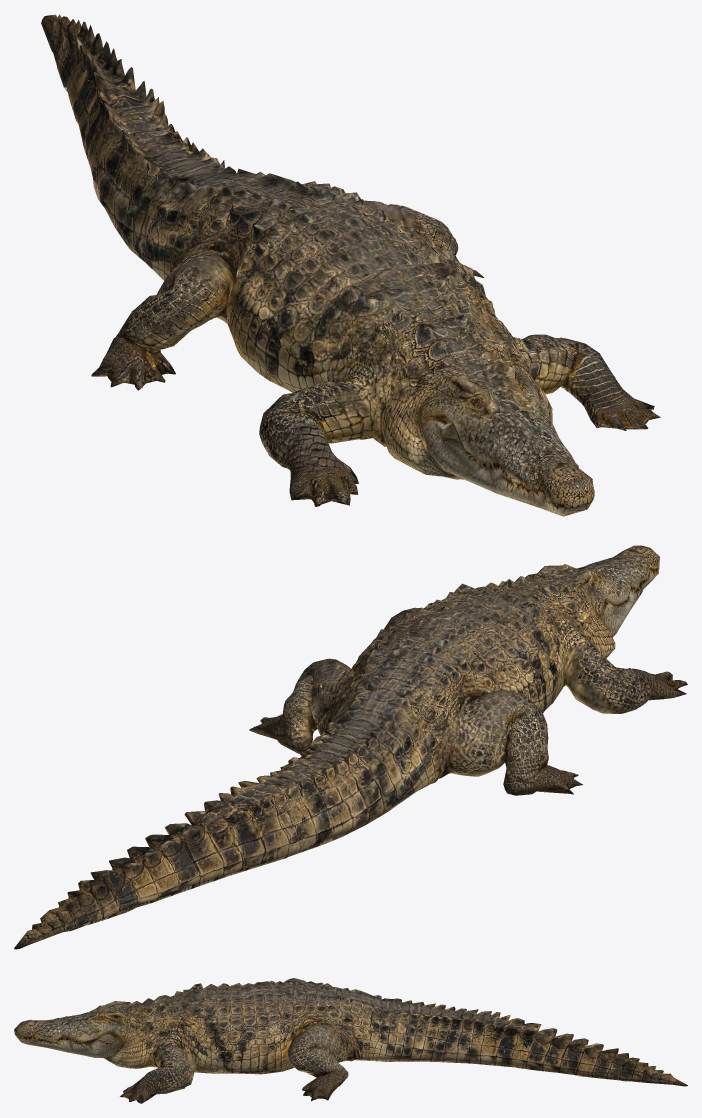
Rendered from crocodile.glb.
The picture shows the model from 3 angles, top to bottom: view 1: azimuth 30°, elevation 25°; view 2: azimuth 150°, elevation 25°; view 3: azimuth 270°, elevation 25°; orthographic projection. The views are drawn at different scales.
Parts seen in each view (by area): view 1: crocodile; view 2: crocodile; view 3: crocodile.
Boxes of the visible parts, x1=… form: crocodile: x1=41, y1=14, x2=660, y2=516; crocodile: x1=14, y1=545, x2=687, y2=949; crocodile: x1=14, y1=978, x2=687, y2=1103.
Bounding box in the file's own units: 1.53 × 0.5366 × 4.5.
1 material, 1 textured.
